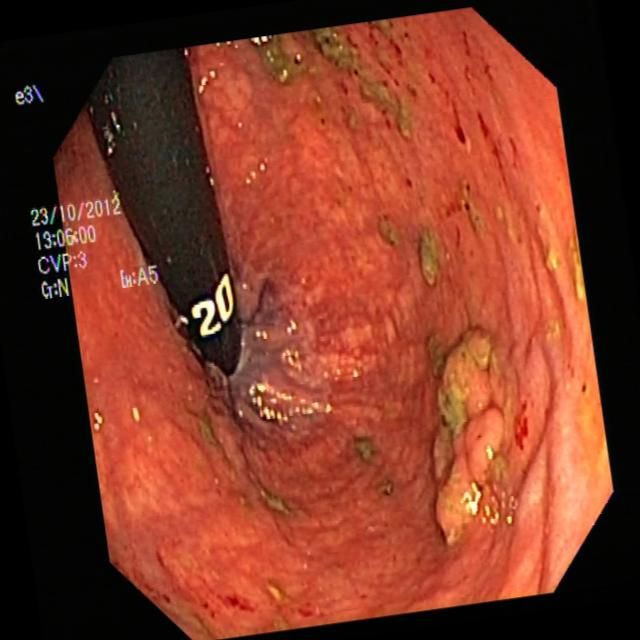ulcerative-colities: (419, 320, 543, 555), (235, 18, 428, 141), (380, 212, 453, 293)
